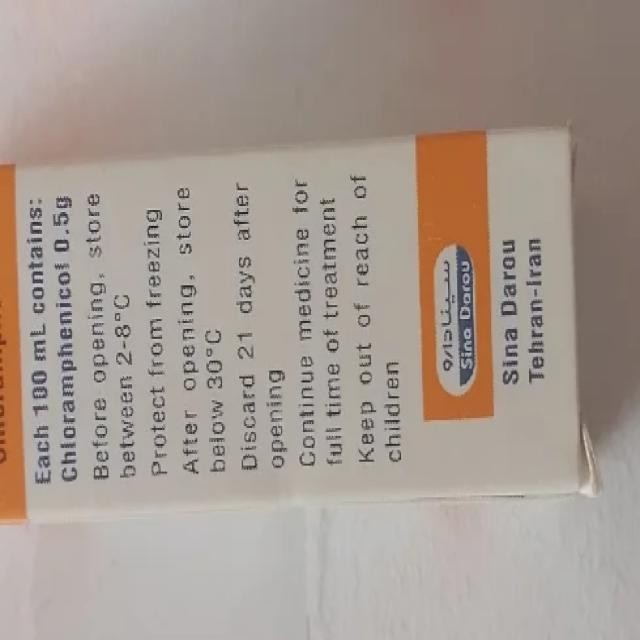drug-name: (51, 255, 84, 490)
